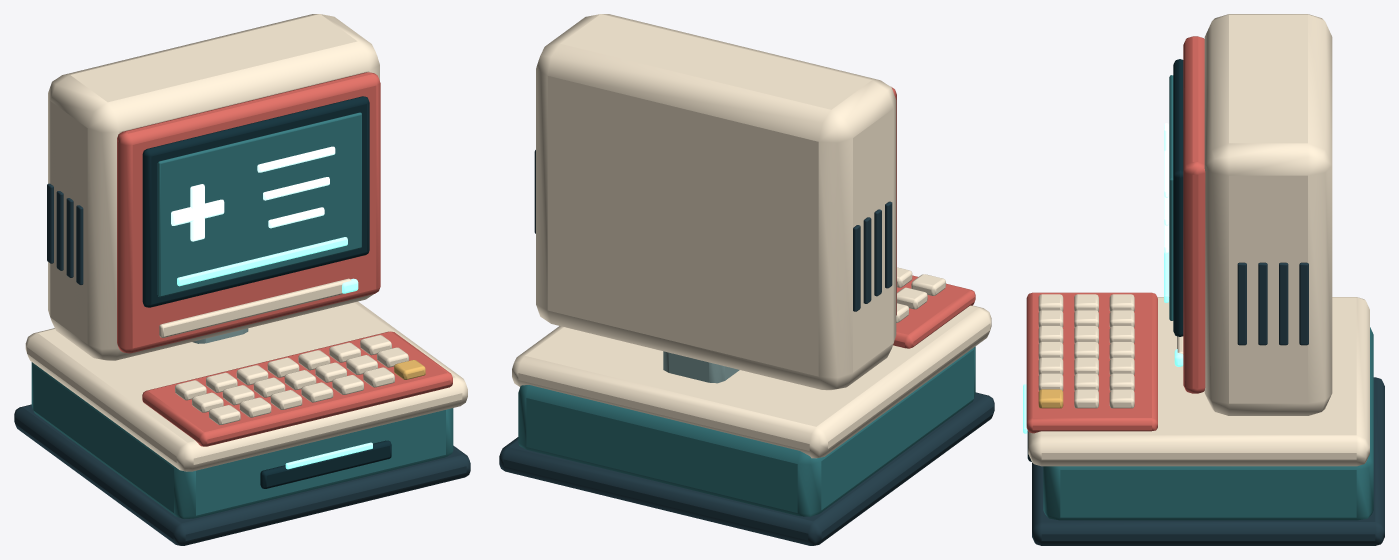
Rendered from pc-terminal.glb.
3 renders of one model, left to right at view 1: azimuth 30°, elevation 25°; view 2: azimuth 150°, elevation 25°; view 3: azimuth 270°, elevation 25°, orthographic. The views are drawn at different scales.
Parts seen in each view (by area): view 1: CeramicCream, DeepTeal, CoralEnamel, SlateRubber, ScreenGlass, ProgressGlow, ScreenTrace, DataLine1, ReaderGlow, DataLine2; view 2: CeramicCream, DeepTeal, SlateRubber, CoralEnamel, BrushedMetal; view 3: CeramicCream, DeepTeal, CoralEnamel, SlateRubber, ScreenGlass, AmberButton.
Part boxes in pixels (box(x1,y1,x2,y2)): CeramicCream: box(25, 14, 467, 471); DeepTeal: box(31, 112, 453, 518); CoralEnamel: box(117, 72, 452, 446); SlateRubber: box(14, 183, 470, 545); ScreenGlass: box(142, 96, 391, 488); ProgressGlow: box(177, 237, 347, 286); ScreenTrace: box(171, 184, 224, 241); DataLine1: box(257, 146, 335, 172); ReaderGlow: box(285, 442, 372, 469); DataLine2: box(263, 177, 329, 200); CeramicCream: box(512, 14, 991, 458); DeepTeal: box(518, 346, 975, 516); SlateRubber: box(499, 150, 994, 545); CoralEnamel: box(891, 87, 975, 348); BrushedMetal: box(663, 351, 739, 383); CeramicCream: box(1028, 14, 1369, 466); DeepTeal: box(1043, 75, 1373, 520); CoralEnamel: box(1026, 36, 1205, 433); SlateRubber: box(1032, 262, 1384, 545); ScreenGlass: box(1027, 59, 1183, 461); AmberButton: box(1038, 389, 1063, 408).
Size of the model in its own units: 0.962 by 1.16 by 0.964.
